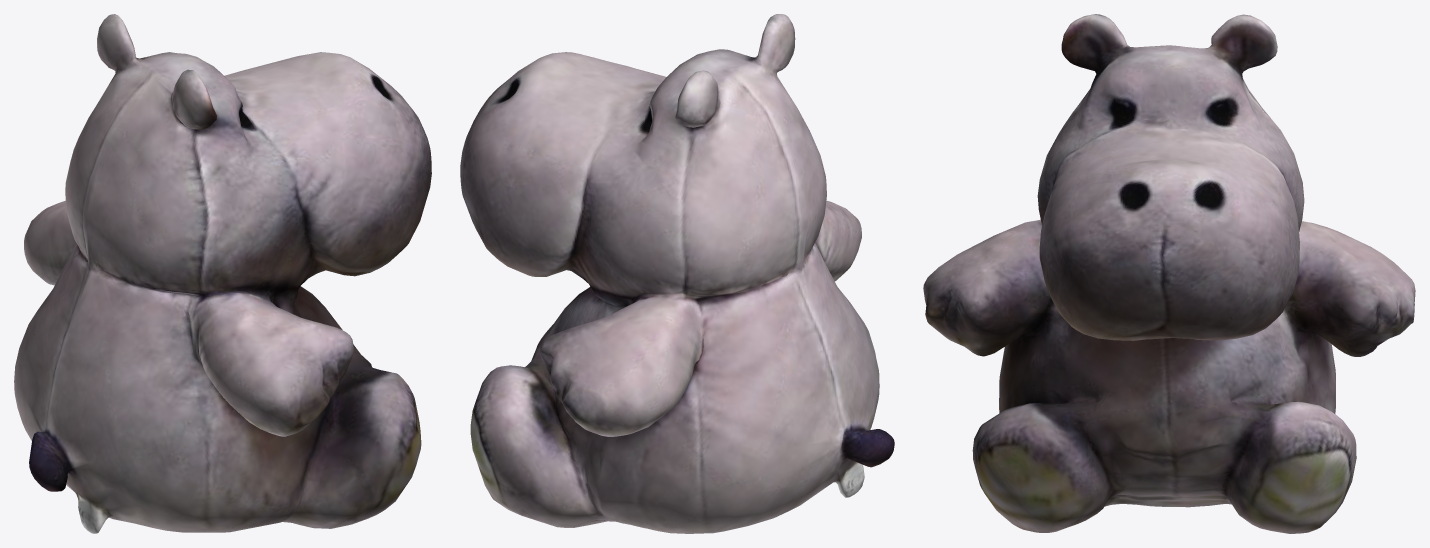
The picture shows the model from 3 angles, left to right: view 1: azimuth 30°, elevation 25°; view 2: azimuth 150°, elevation 25°; view 3: azimuth 270°, elevation 25°; orthographic projection.
Parts seen in each view (by area): view 1: high_poly; view 2: high_poly; view 3: high_poly.
Boxes of the visible parts, x1=… form: high_poly: x1=14, y1=14, x2=431, y2=533; high_poly: x1=460, y1=14, x2=894, y2=533; high_poly: x1=923, y1=14, x2=1415, y2=533.
Size of the model in its own units: 0.8878 by 0.9994 by 0.9815.
1 material, 1 textured.
